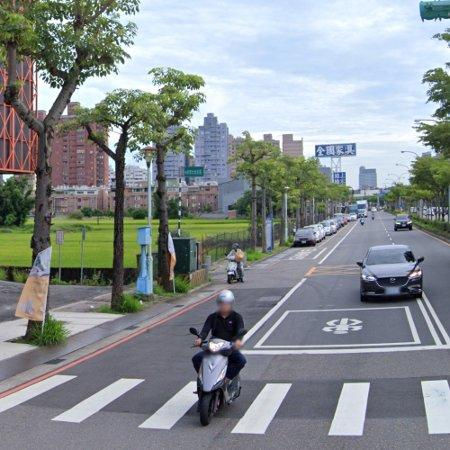crosswalks: (0, 370, 450, 437)
